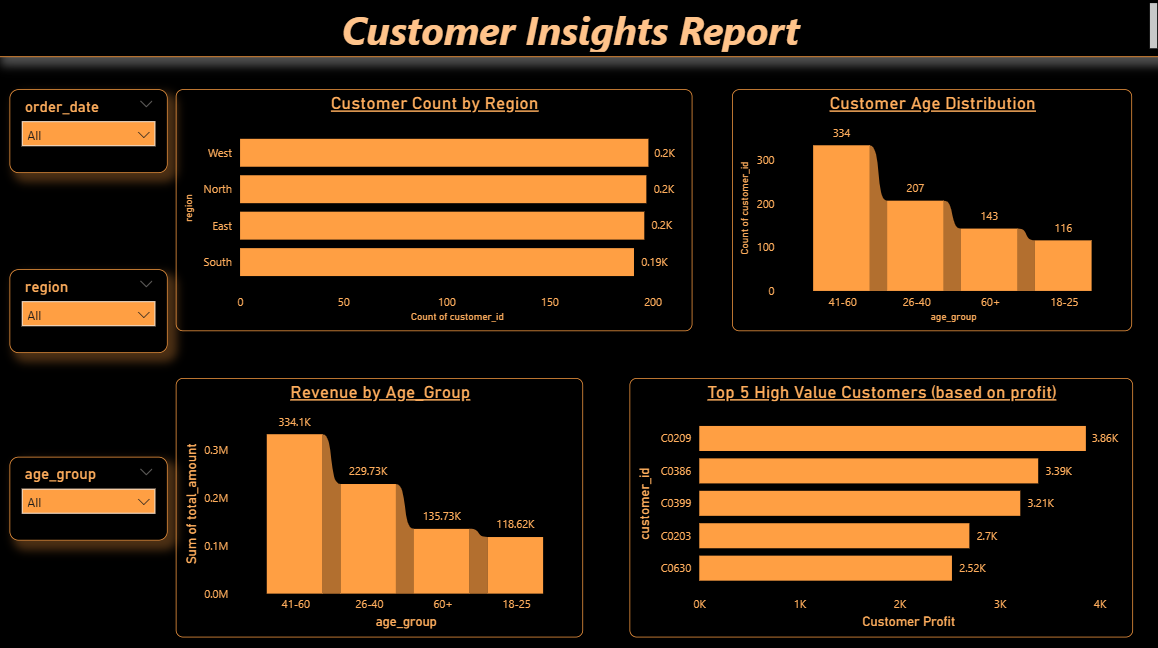

The dashboard page shown, as its layout file describes it:
{"tool":"powerbi","page":{"name":"Customer Insights","canvas":[1280,720],"ordinal":1},"visuals":[{"type":"barChart","title":"Customer Count by Region","fields":{"Y":["Count(sales_cleaned.customer_id)"],"Category":["customers_cleaned.region"]},"box":[196.6,100.1,567,265.4],"z":0},{"type":"columnChart","title":"Revenue by Age_Group","fields":{"Category":["customers_cleaned.age_group"],"Y":["Sum(sales_cleaned.total_amount)"]},"box":[196.6,417.4,447.6,284.7],"z":1000},{"type":"columnChart","title":"Customer Age Distribution","fields":{"Category":["customers_cleaned.age_group"],"Y":["Count(customers_cleaned.customer_id)"]},"box":[807.1,100.1,439.1,265.4],"z":2000},{"type":"slicer","fields":{"Values":["customers_cleaned.age_group"]},"box":[13.3,503.1,173.7,91.7],"z":3000},{"type":"slicer","fields":{"Values":["customers_cleaned.region"]},"box":[13.3,298,173.7,91.7],"z":4000},{"type":"slicer","fields":{"Values":["sales_cleaned.order_date"]},"box":[13.3,100.1,173.7,91.7],"z":5000},{"type":"barChart","title":"Top 5 High Value Customers (based on profit) ","fields":{"Y":["customers_cleaned.Customer Profit"],"Category":["customers_cleaned.customer_id"]},"box":[693.7,417.4,552.5,284.7],"z":6000},{"type":"textbox","box":[0,0,1280,65.1],"z":7000}]}

Visuals, with their boxes in screenshot pixels (x1, y1, x2, y2), scaled from the page's 1280x720 canvas onto the 1158x648 screenshot:
"Customer Count by Region" barChart: Rect(178, 90, 691, 329)
"Revenue by Age_Group" columnChart: Rect(178, 376, 583, 632)
"Customer Age Distribution" columnChart: Rect(730, 90, 1127, 329)
slicer - customers_cleaned.age_group: Rect(12, 453, 169, 535)
slicer - customers_cleaned.region: Rect(12, 268, 169, 351)
slicer - sales_cleaned.order_date: Rect(12, 90, 169, 173)
"Top 5 High Value Customers (based on profit) " barChart: Rect(628, 376, 1127, 632)
textbox: Rect(0, 0, 1157, 59)
